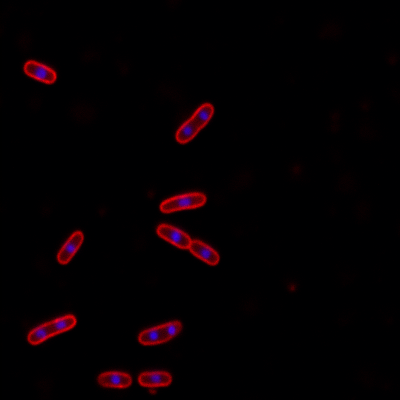CAM: (155, 222, 221, 267), (174, 102, 214, 144), (26, 314, 77, 346), (158, 190, 208, 215), (135, 320, 185, 345), (54, 229, 86, 265), (23, 58, 58, 85), (99, 371, 134, 389), (137, 371, 173, 387)
Vesicle: (284, 281, 298, 295)
